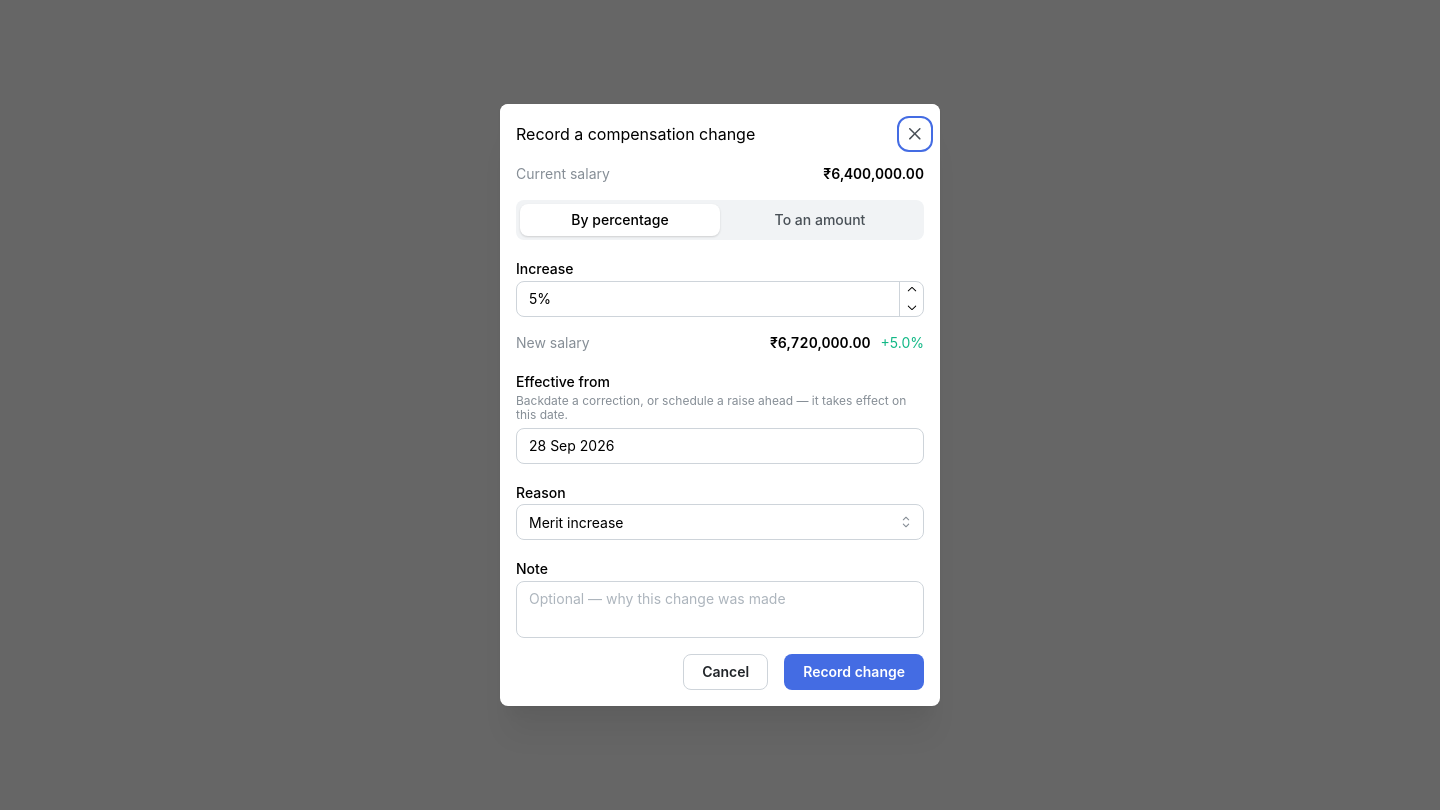
previewing a compensation change › shows the resulting percentage when an absolute amount is entered
Click the radio button labelled "To an amount" at [820, 220], box [775,211,865,228]
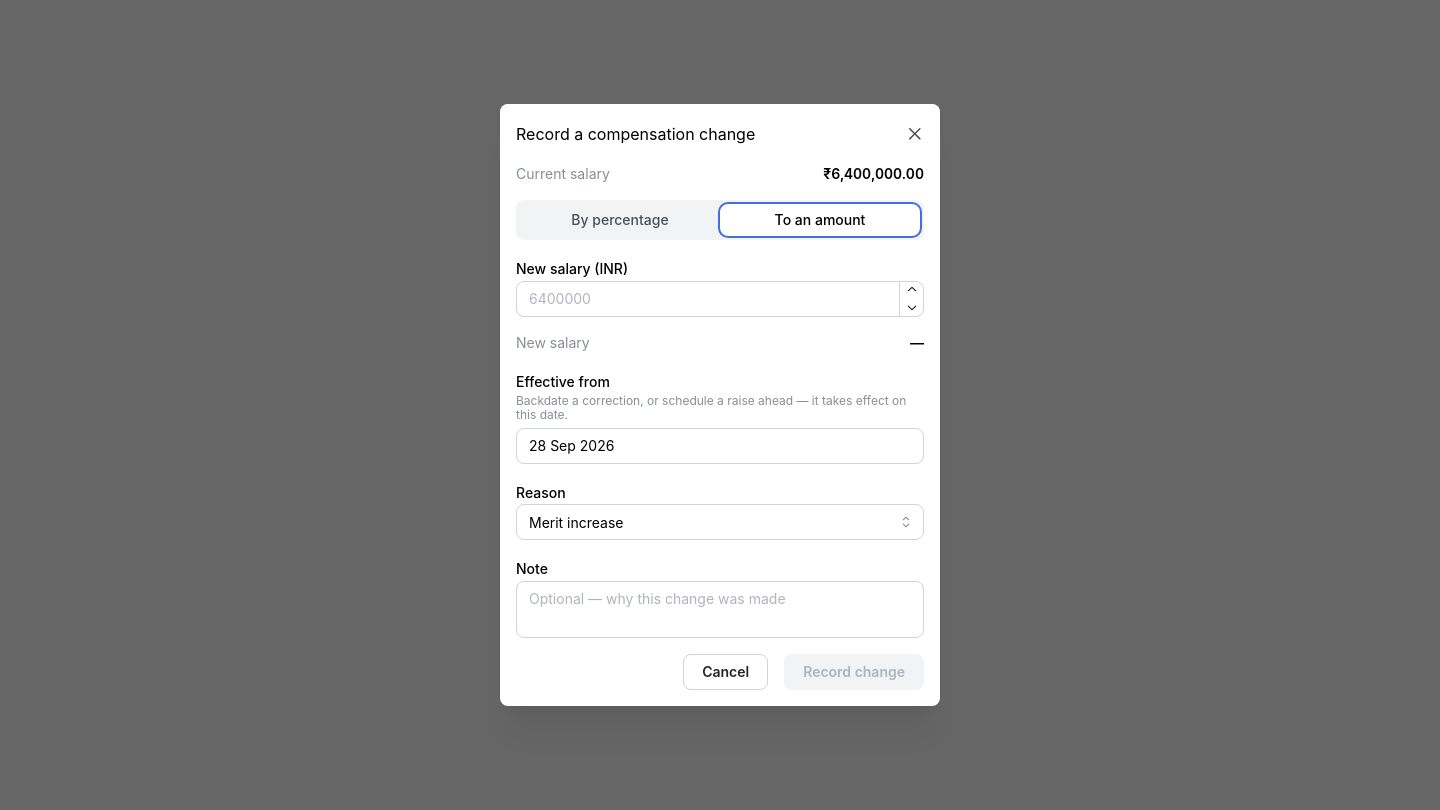
Type "7040000" into the field with test id "new-salary" at [720, 299], box [516,281,924,317]
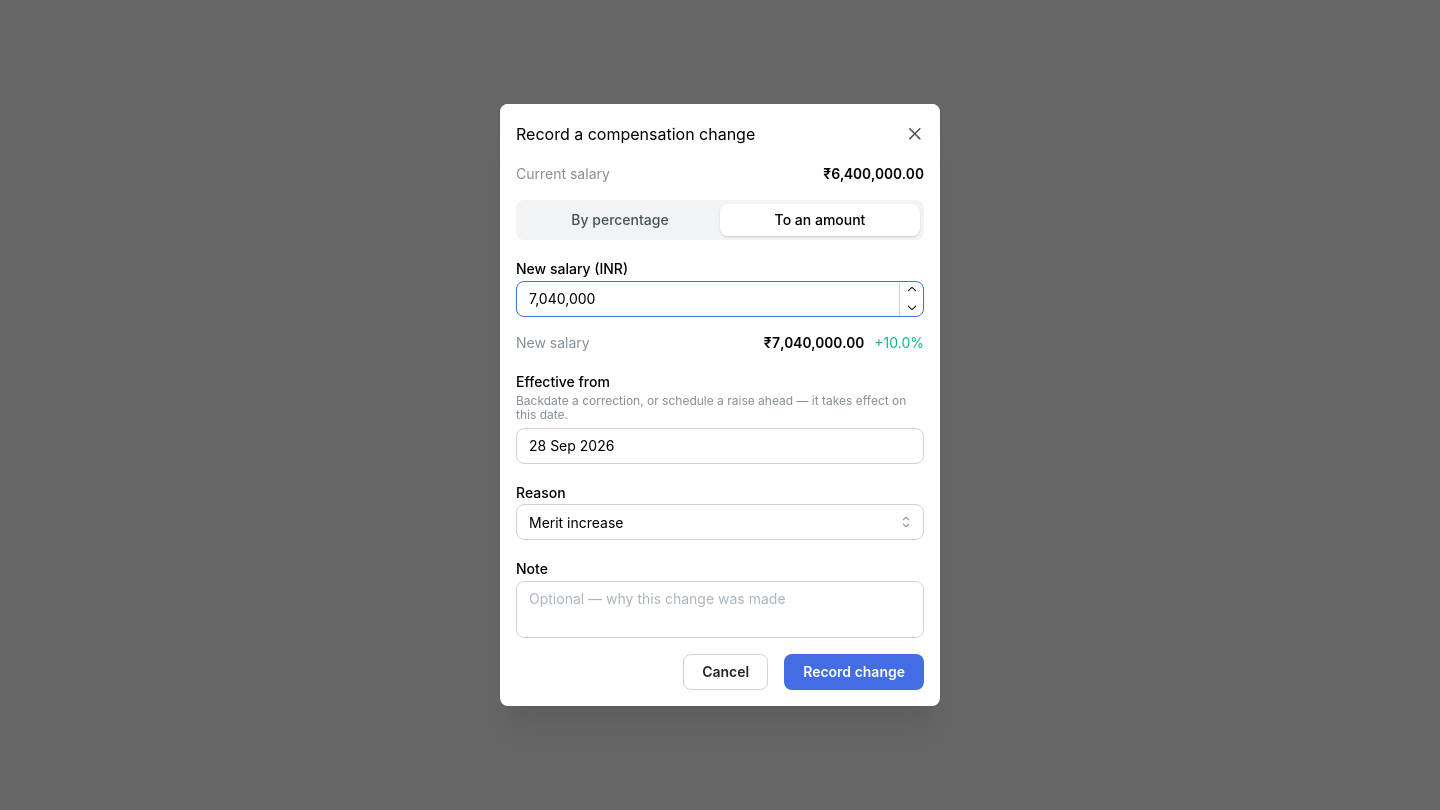
Result: the text with test id "projected-salary" reads "₹7,040,000.00" at [764,334,864,351]
Result: the text "+10.0%" is shown at [874,333,924,353]
